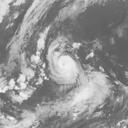cyclone: (46, 37, 86, 86)
